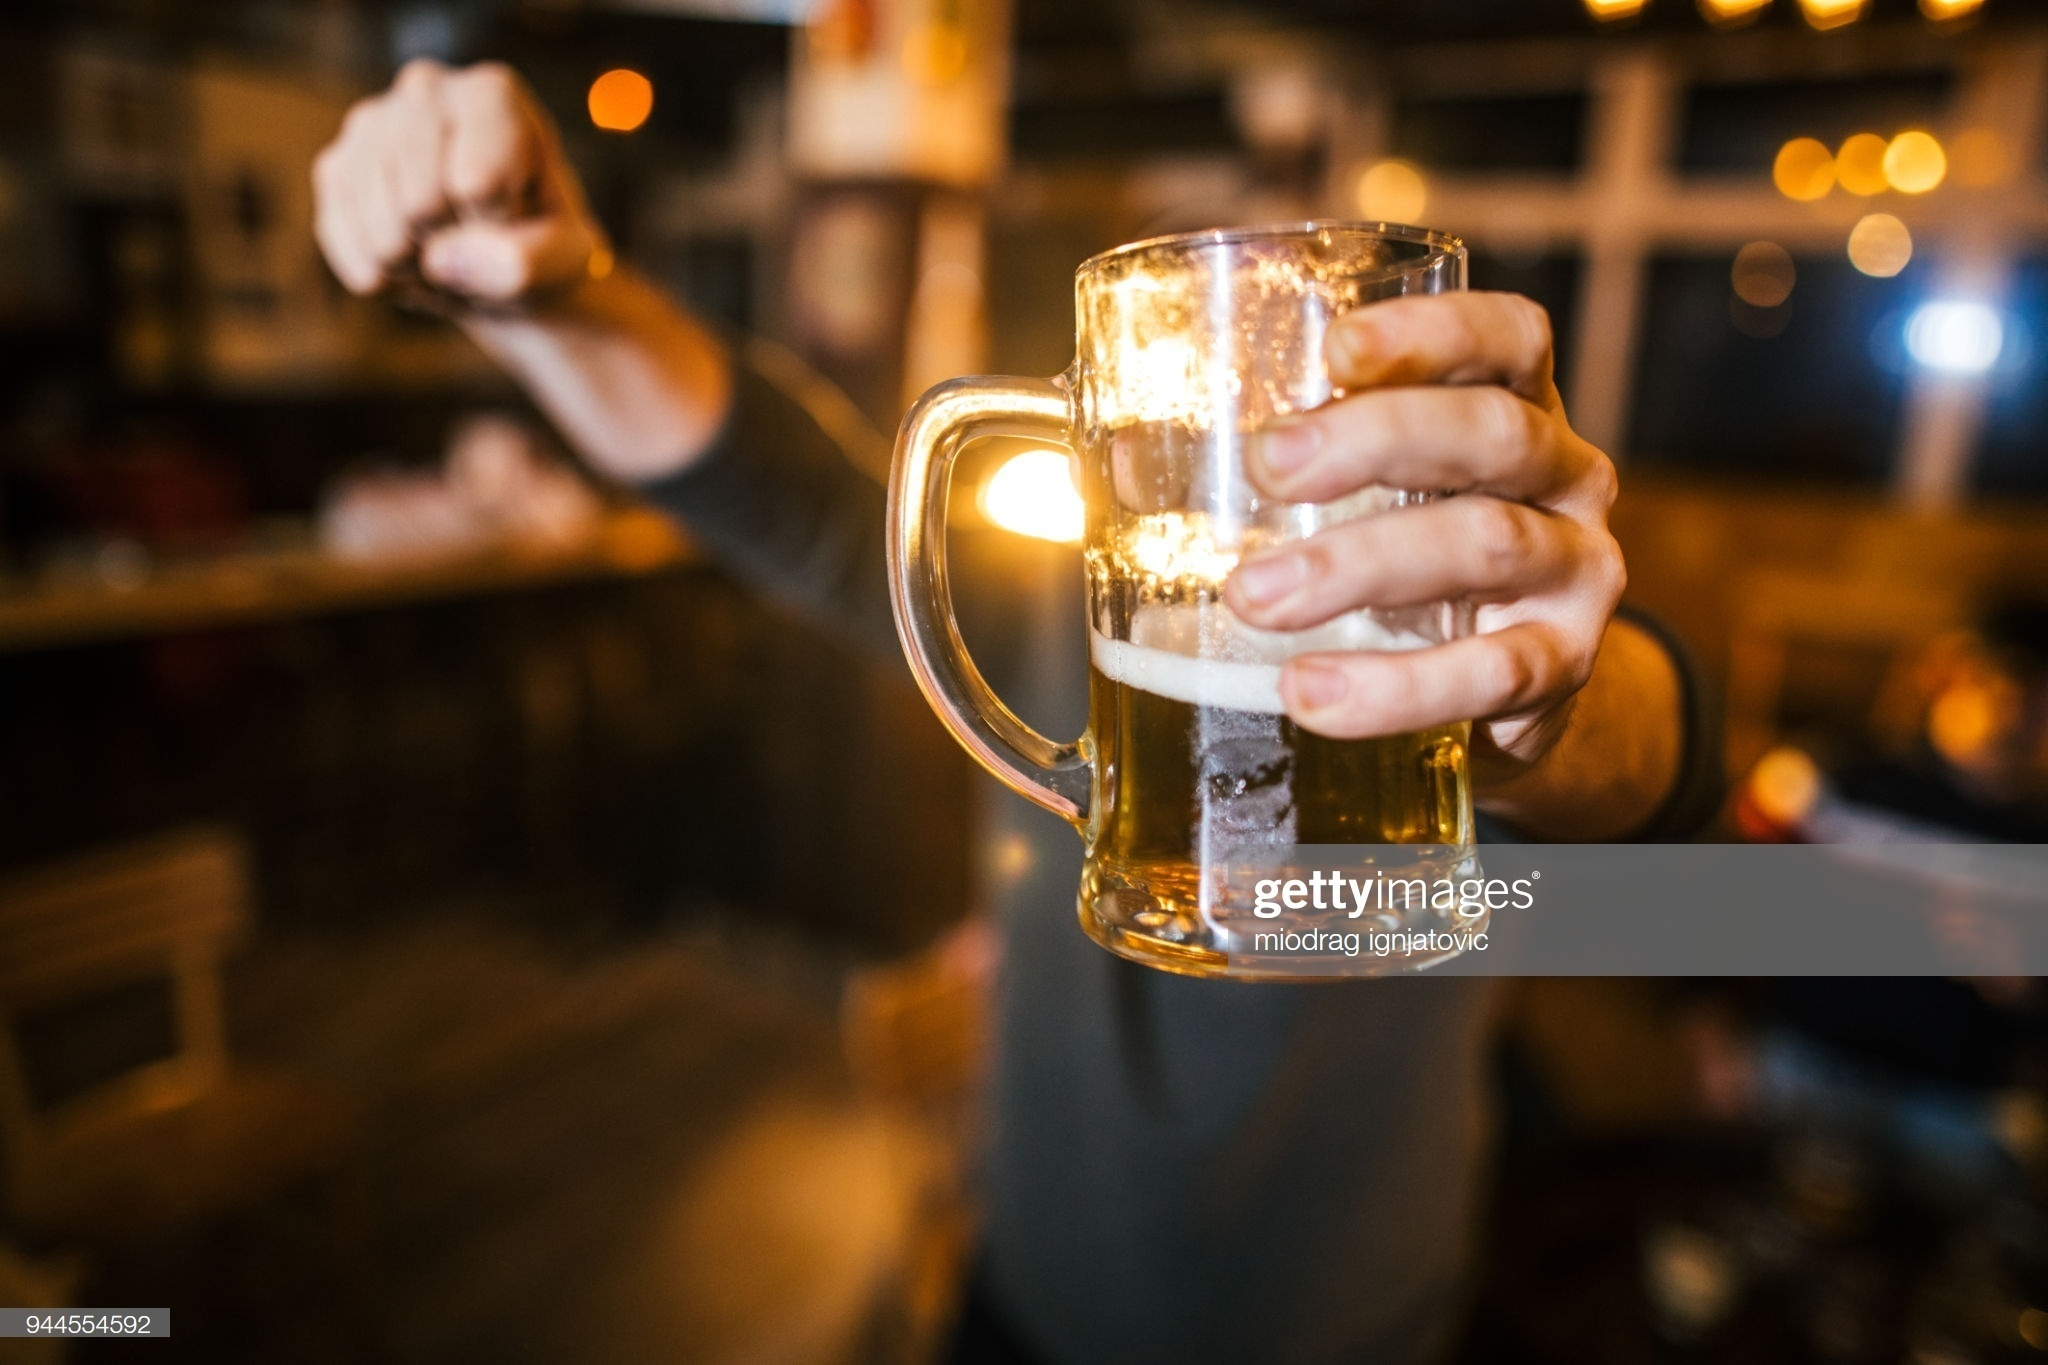whiskey: (1061, 238, 1491, 960)
